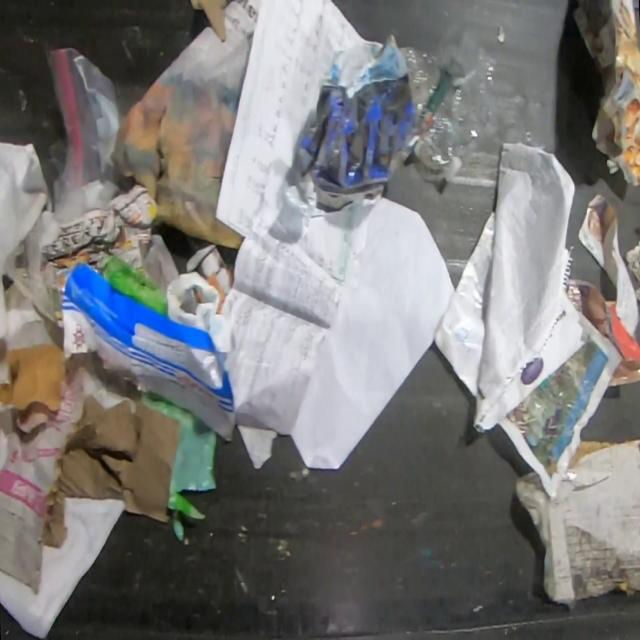cardboard: (0, 354, 139, 594), (54, 260, 236, 443), (290, 30, 422, 211), (40, 390, 180, 549), (512, 438, 640, 608), (139, 390, 218, 542), (0, 303, 69, 413), (166, 242, 234, 353), (0, 142, 62, 250), (100, 255, 167, 317), (188, 0, 228, 42)
soft_plastic: (400, 37, 501, 186), (44, 44, 122, 225), (0, 152, 60, 345)
